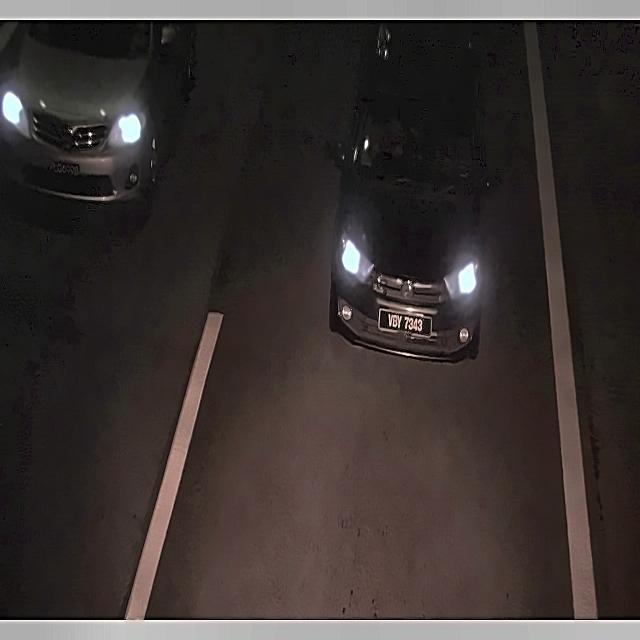car: (376, 306, 439, 342), (44, 158, 84, 181)
